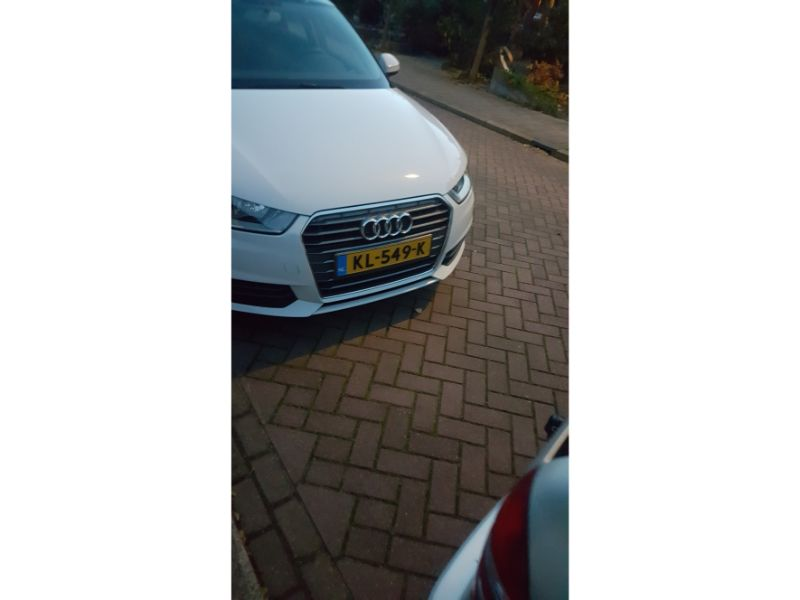kenteken: (339, 231, 441, 290)
